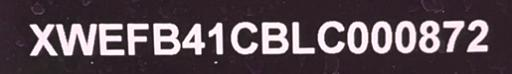letter: (56, 20, 98, 56), (227, 20, 261, 56), (150, 21, 184, 55), (24, 22, 58, 56), (260, 20, 290, 58), (464, 18, 494, 54), (318, 19, 346, 55), (98, 20, 126, 56), (440, 19, 466, 55), (290, 20, 316, 56), (124, 21, 150, 56), (416, 20, 442, 54), (346, 19, 370, 53), (370, 19, 394, 53), (393, 20, 417, 54), (204, 21, 226, 55), (182, 23, 204, 55)
